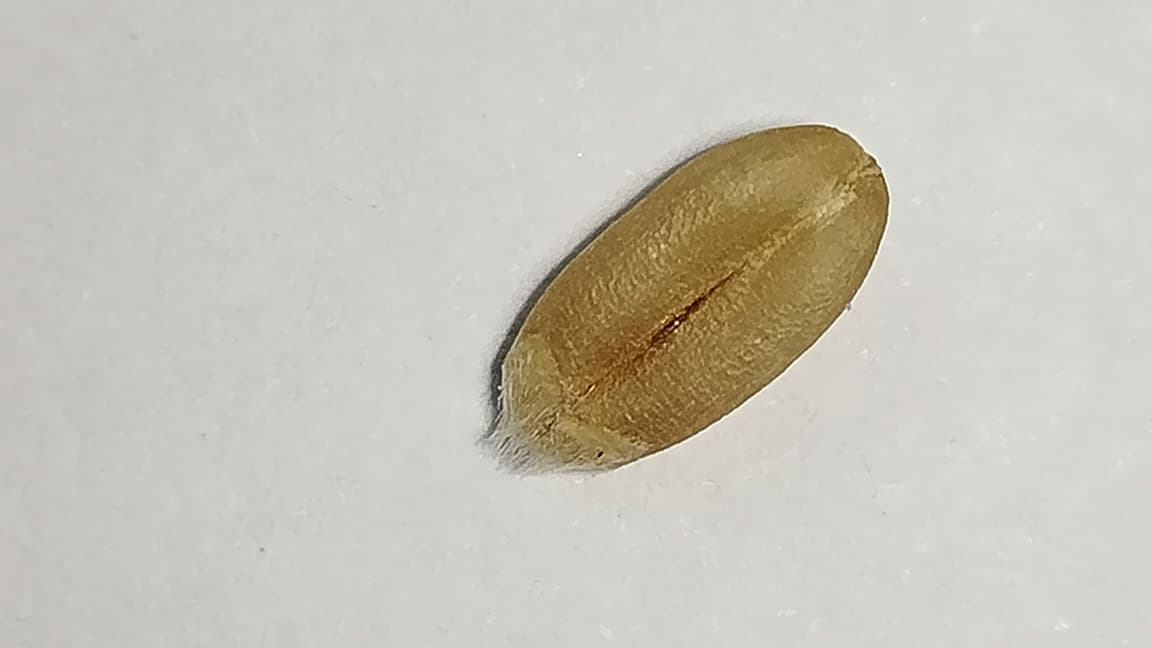healthy: (487, 125, 887, 471)
